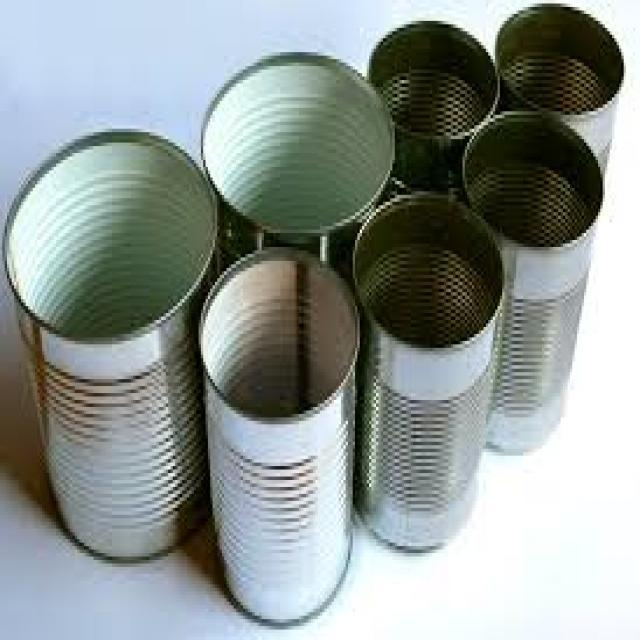recyclable: (0, 125, 217, 567), (194, 243, 360, 630), (348, 188, 505, 553), (460, 104, 603, 456), (198, 45, 392, 275), (492, 0, 624, 195), (364, 17, 498, 195)
